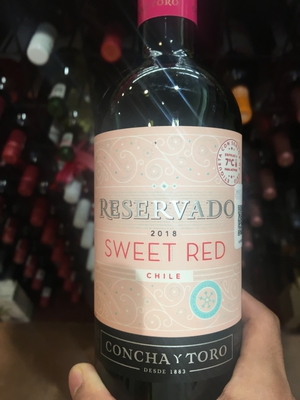reservado sweet red: (82, 23, 250, 400)
